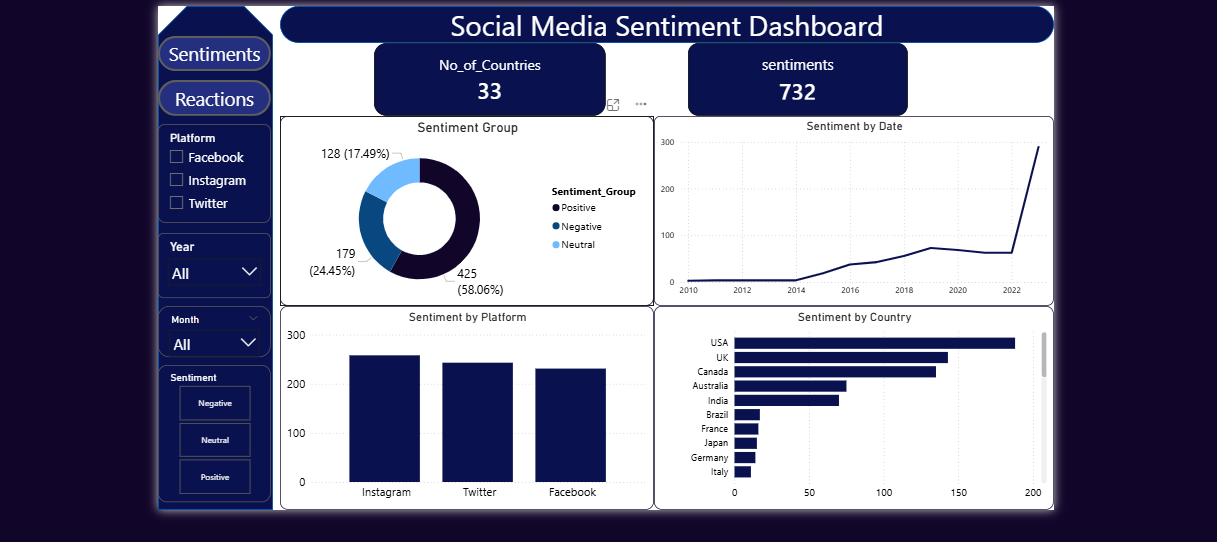

This screenshot's page, from the dashboard's own definition file:
{"tool":"powerbi","page":{"name":"sentiments","canvas":[1280,720],"ordinal":0},"visuals":[{"type":"shape","box":[0,0,164.3,720],"z":0},{"type":"shape","box":[174.3,0,1105.7,52.9],"z":1000},{"type":"lineChart","title":"Sentiment by Date","fields":{"Category":["Sentiment dataset.Timestamp.Variation.Date Hierarchy.Year","Sentiment dataset.Timestamp.Variation.Date Hierarchy.Quarter","Sentiment dataset.Timestamp.Variation.Date Hierarchy.Month","Sentiment dataset.Timestamp.Variation.Date Hierarchy.Day"],"Y":["CountNonNull(Sentiment dataset.Sentiment)"]},"box":[708.6,157.1,571.4,271.4],"z":2000},{"type":"donutChart","title":"Sentiment Group ","fields":{"Category":["Sentiment dataset.Sentiment_Group"],"Y":["CountNonNull(Sentiment dataset.Sentiment_Group)"]},"box":[174.3,157.1,534.3,271.4],"z":3000},{"type":"columnChart","title":" Sentiment by Platform","fields":{"Category":["Sentiment dataset.Platform"],"Y":["CountNonNull(Sentiment dataset.Sentiment)"]},"box":[174.3,428.6,534.3,291.4],"z":4000},{"type":"cardVisual","fields":{"Data":["(measures).sentiments"]},"box":[757.1,52.9,314.3,104.3],"z":5000},{"type":"clusteredBarChart","title":"Sentiment by Country","fields":{"Category":["Sentiment dataset.Country"],"Y":["CountNonNull(Sentiment dataset.Sentiment)"]},"box":[708.6,428.6,571.4,291.4],"z":6000},{"type":"cardVisual","fields":{"Data":["(measures).No_of_Countries"]},"box":[308.6,52.9,331.4,104.3],"z":7000},{"type":"slicer","fields":{"Values":["Sentiment dataset.Timestamp.Variation.Date Hierarchy.Year"]},"box":[0,324.3,161.4,92.9],"z":8000},{"type":"slicer","fields":{"Values":["Sentiment dataset.Timestamp.Variation.Date Hierarchy.Month"]},"box":[0,428.6,161.4,72.9],"z":9000},{"type":"slicer","fields":{"Values":["Sentiment dataset.Sentiment_Group"]},"box":[0,512.9,161.4,195.7],"z":10000},{"type":"slicer","fields":{"Values":["Sentiment dataset.Platform"]},"box":[0,168.6,161.4,141.4],"z":11000},{"type":"actionButton","box":[0,42.9,161.4,50],"z":12000},{"type":"actionButton","box":[0,105.7,161.4,51.4],"z":13000}]}

Visuals, with their boxes on the page's 1280x720 design canvas (x1, y1, x2, y2). These are canvas units, not pixel positions in the 1217x542 screenshot, which may show the page scaled, cropped or inside an application window:
shape: {"left": 0, "top": 0, "right": 164, "bottom": 720}
shape: {"left": 174, "top": 0, "right": 1280, "bottom": 53}
"Sentiment by Date" lineChart: {"left": 709, "top": 157, "right": 1280, "bottom": 428}
"Sentiment Group " donutChart: {"left": 174, "top": 157, "right": 709, "bottom": 428}
" Sentiment by Platform" columnChart: {"left": 174, "top": 429, "right": 709, "bottom": 720}
cardVisual - (measures).sentiments: {"left": 757, "top": 53, "right": 1071, "bottom": 157}
"Sentiment by Country" clusteredBarChart: {"left": 709, "top": 429, "right": 1280, "bottom": 720}
cardVisual - (measures).No_of_Countries: {"left": 309, "top": 53, "right": 640, "bottom": 157}
slicer - Sentiment dataset.Timestamp.Variation.Date Hierarchy.Year: {"left": 0, "top": 324, "right": 161, "bottom": 417}
slicer - Sentiment dataset.Timestamp.Variation.Date Hierarchy.Month: {"left": 0, "top": 429, "right": 161, "bottom": 502}
slicer - Sentiment dataset.Sentiment_Group: {"left": 0, "top": 513, "right": 161, "bottom": 709}
slicer - Sentiment dataset.Platform: {"left": 0, "top": 169, "right": 161, "bottom": 310}
actionButton: {"left": 0, "top": 43, "right": 161, "bottom": 93}
actionButton: {"left": 0, "top": 106, "right": 161, "bottom": 157}
